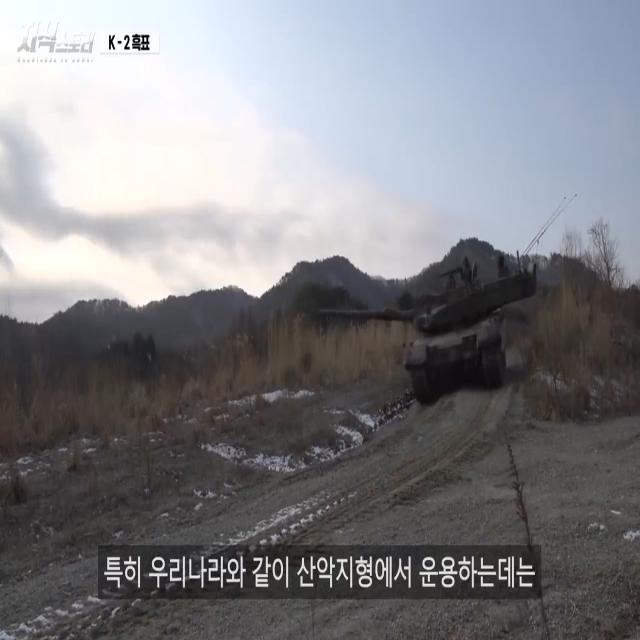korea tank: (311, 247, 537, 409)
